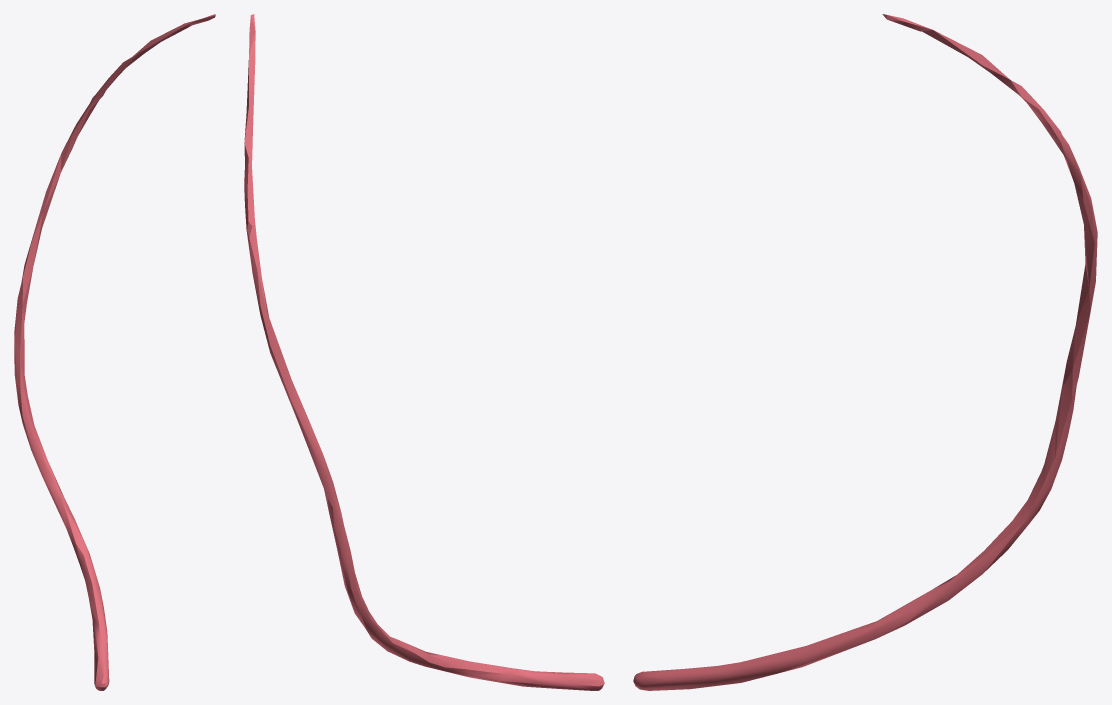
The model's file is fma50146_fj1674.glb.
The picture shows the model from 3 angles, left to right: view 1: azimuth 30°, elevation 25°; view 2: azimuth 150°, elevation 25°; view 3: azimuth 270°, elevation 25°; orthographic projection. The views are drawn at different scales.
Parts seen in each view (by area): view 1: FMA50146_FJ1674; view 2: FMA50146_FJ1674; view 3: FMA50146_FJ1674.
Part boxes in pixels (x1,y1,x2,y2): FMA50146_FJ1674: (14,14,215,690); FMA50146_FJ1674: (244,14,604,690); FMA50146_FJ1674: (633,14,1097,690).
Size of the model in its own units: 0.0121 by 0.0319 by 0.0165.
